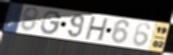6: (110, 19, 133, 46), (131, 23, 152, 48)
8: (19, 7, 41, 34)
9: (67, 14, 86, 39)
G: (40, 10, 63, 35)
H: (83, 16, 110, 43)
